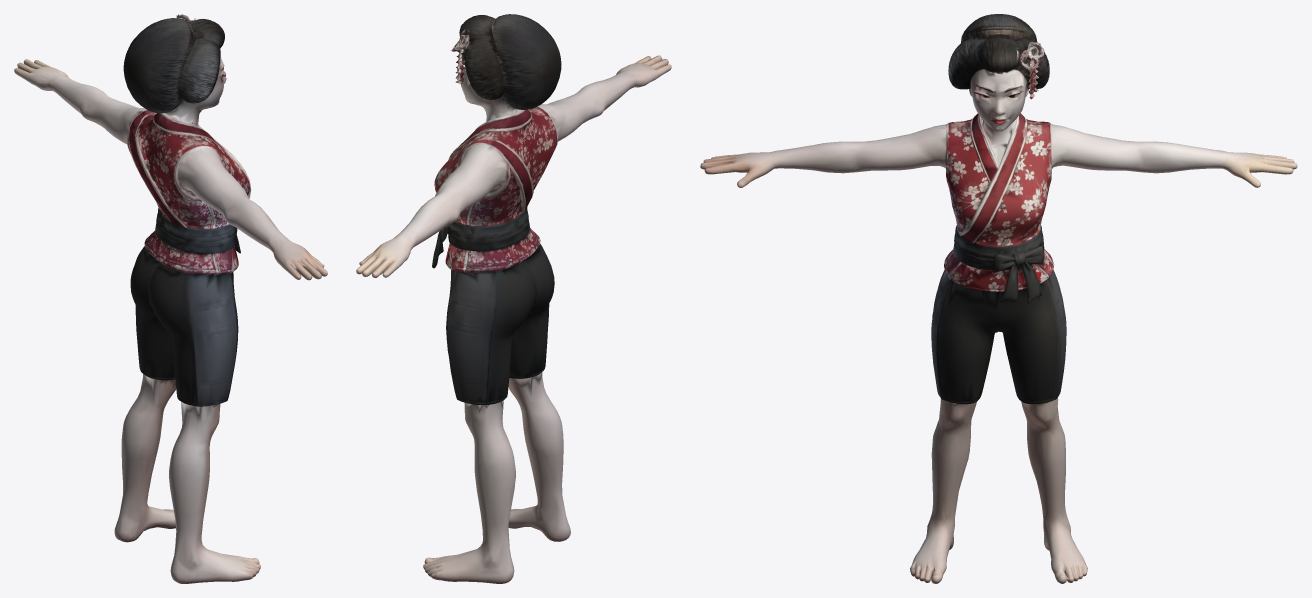
Rendered from the-geisha.glb.
3 views of the same model, side by side, from view 1: azimuth 30°, elevation 25°; view 2: azimuth 150°, elevation 25°; view 3: azimuth 270°, elevation 25° (orthographic).
Visible parts, largest first — view 1: the-geisha; view 2: the-geisha; view 3: the-geisha.
Boxes of the visible parts, <box> form: the-geisha: <box>14,14,327,583</box>; the-geisha: <box>356,14,671,583</box>; the-geisha: <box>700,14,1297,583</box>.
Bounding box in the file's own units: 0.2149 × 0.9783 × 0.977.
Materials: 1 (1 with a texture image).
